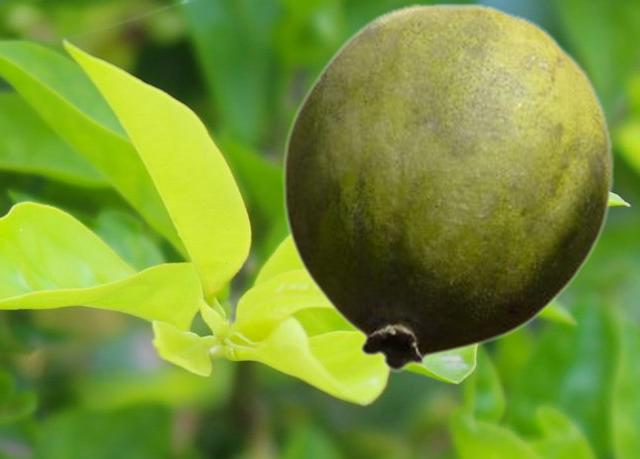guava: (281, 2, 614, 371)
